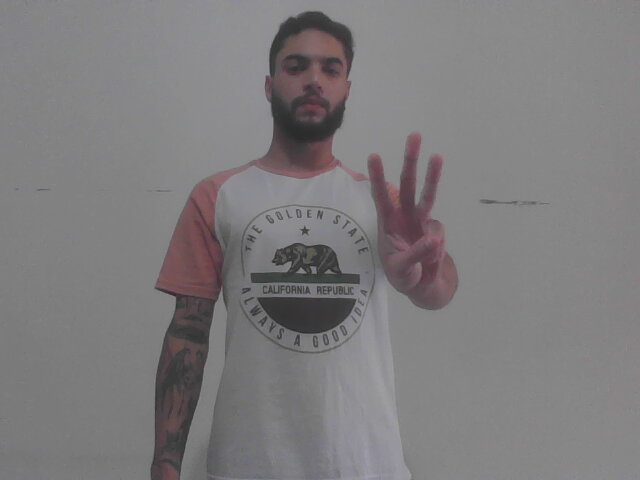w: (357, 126, 452, 295)
